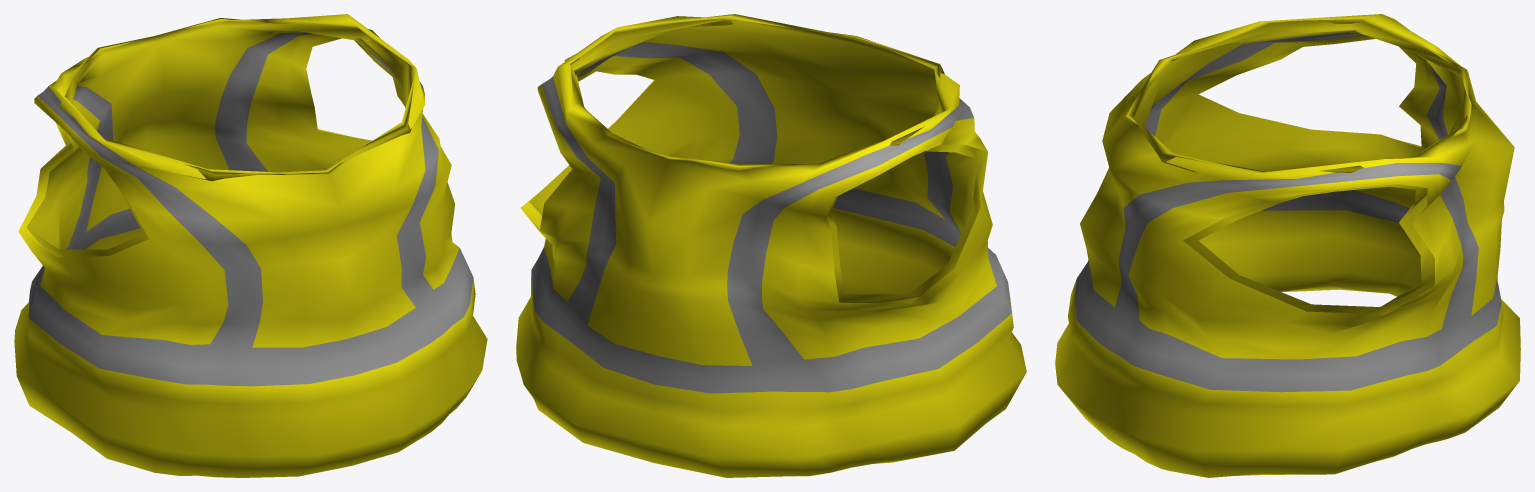
File: ropa_reflectante.glb
3 views of the same model, side by side, from view 1: azimuth 30°, elevation 25°; view 2: azimuth 150°, elevation 25°; view 3: azimuth 270°, elevation 25° (orthographic). The views are drawn at different scales.
Visible parts, largest first — view 1: pieza; view 2: pieza; view 3: pieza.
Part boxes in pixels (box(x1,y1,x2,y2)): pieza: box(14, 14, 487, 477); pieza: box(516, 14, 1026, 477); pieza: box(1055, 14, 1520, 477).
Bounding box in the file's own units: 1.02 × 0.7337 × 0.9985.
